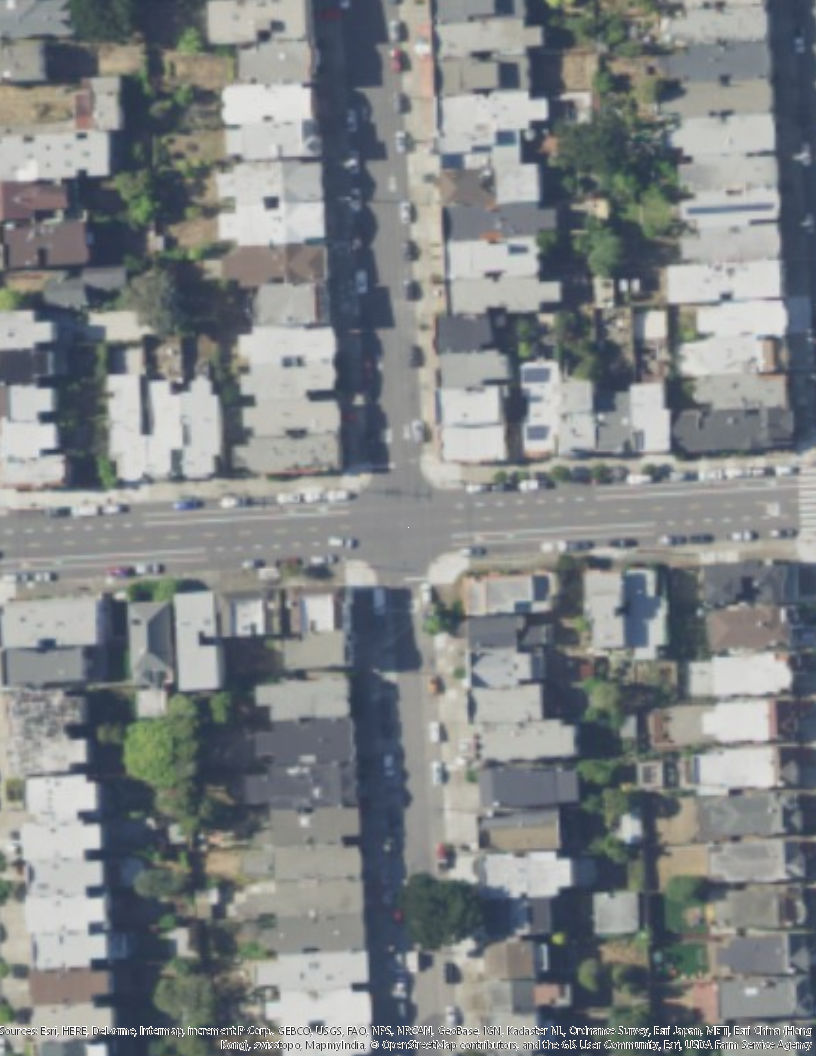zebracross: (797, 468, 816, 531)
